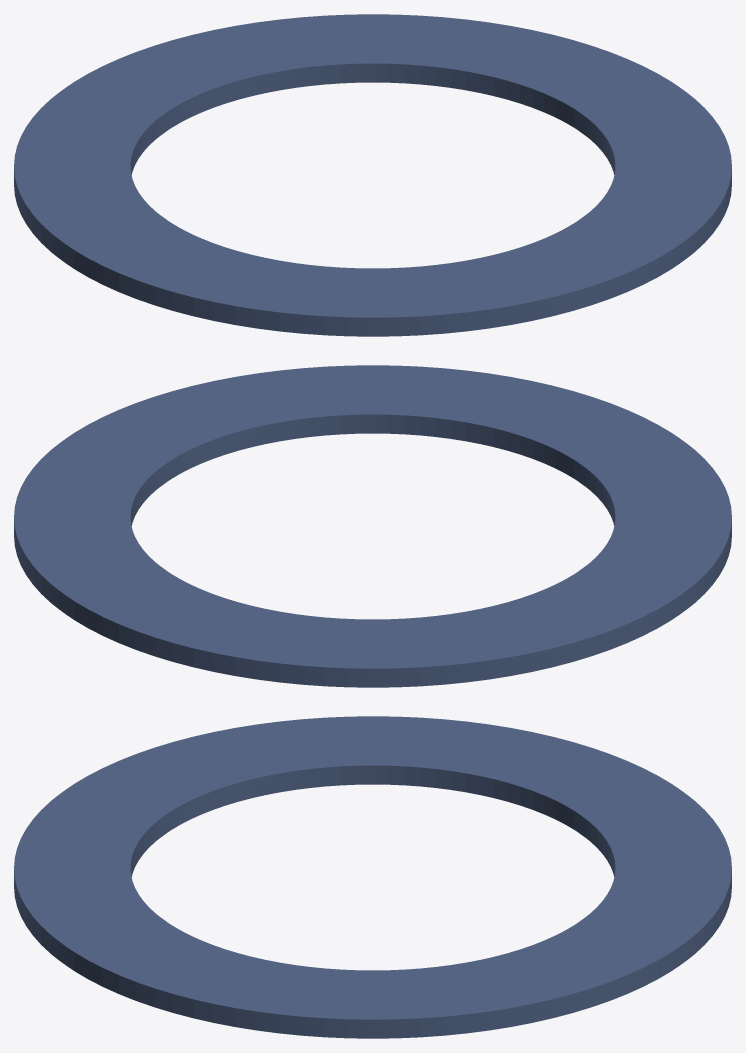
Rendered from Ring_02_Collider.fbx.
3 renders of one model, top to bottom at view 1: azimuth 30°, elevation 25°; view 2: azimuth 150°, elevation 25°; view 3: azimuth 270°, elevation 25°, orthographic.
Parts seen in each view (by area): view 1: Ring_02_Collider; view 2: Ring_02_Collider; view 3: Ring_02_Collider.
Boxes of the visible parts, bbox=[...] form: Ring_02_Collider: bbox=[14, 14, 731, 336]; Ring_02_Collider: bbox=[14, 365, 731, 687]; Ring_02_Collider: bbox=[14, 716, 731, 1038].
Bounding box in the file's own units: 544 × 15.92 × 545.
